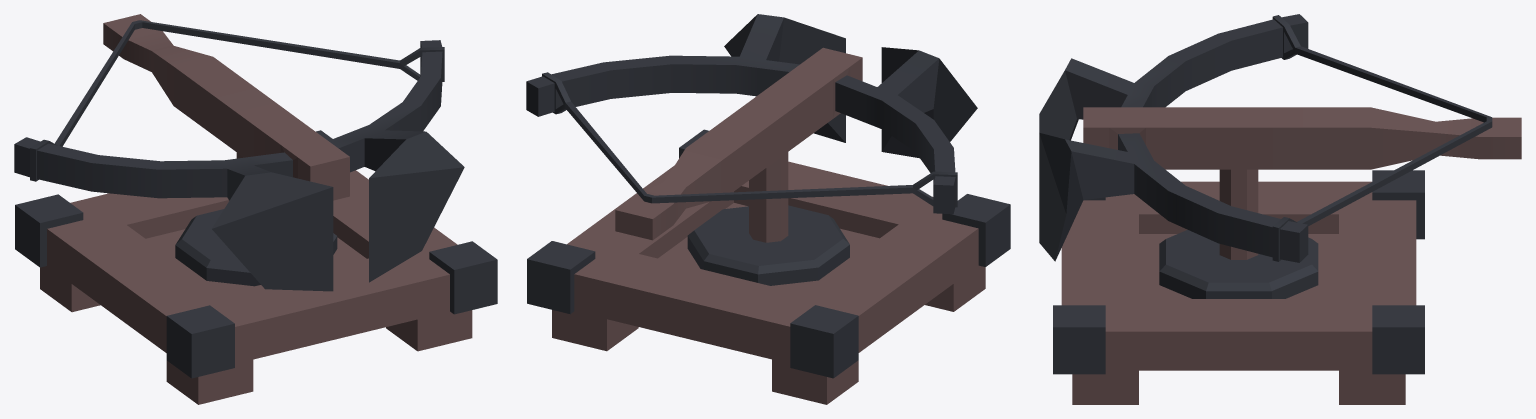
File: Ballista_2.fbx
The picture shows the model from 3 angles, left to right: view 1: azimuth 30°, elevation 25°; view 2: azimuth 150°, elevation 25°; view 3: azimuth 270°, elevation 25°; orthographic projection. The views are drawn at different scales.
Visible parts, largest first — view 1: Ballista, Base; view 2: Ballista, Base; view 3: Ballista, Base.
Boxes of the visible parts, box(x1,y1,x2,y2) form: Ballista: box(14, 14, 464, 291); Base: box(15, 130, 497, 404); Ballista: box(526, 14, 977, 285); Base: box(527, 129, 1010, 404); Ballista: box(1039, 14, 1521, 298); Base: box(1053, 170, 1424, 404).
Size of the model in its own units: 2.41 by 1.18 by 2.24.
